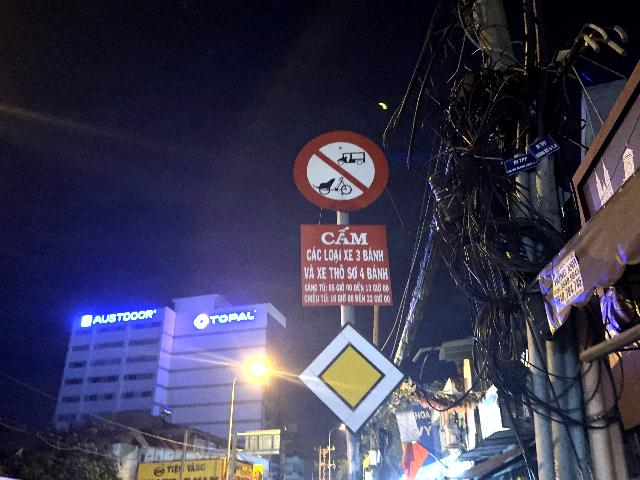bat-dau-duong-uu-tien: (295, 320, 406, 437)
cam-xe-3-banh-xe-tho-so-4-banh: (292, 129, 389, 211)
